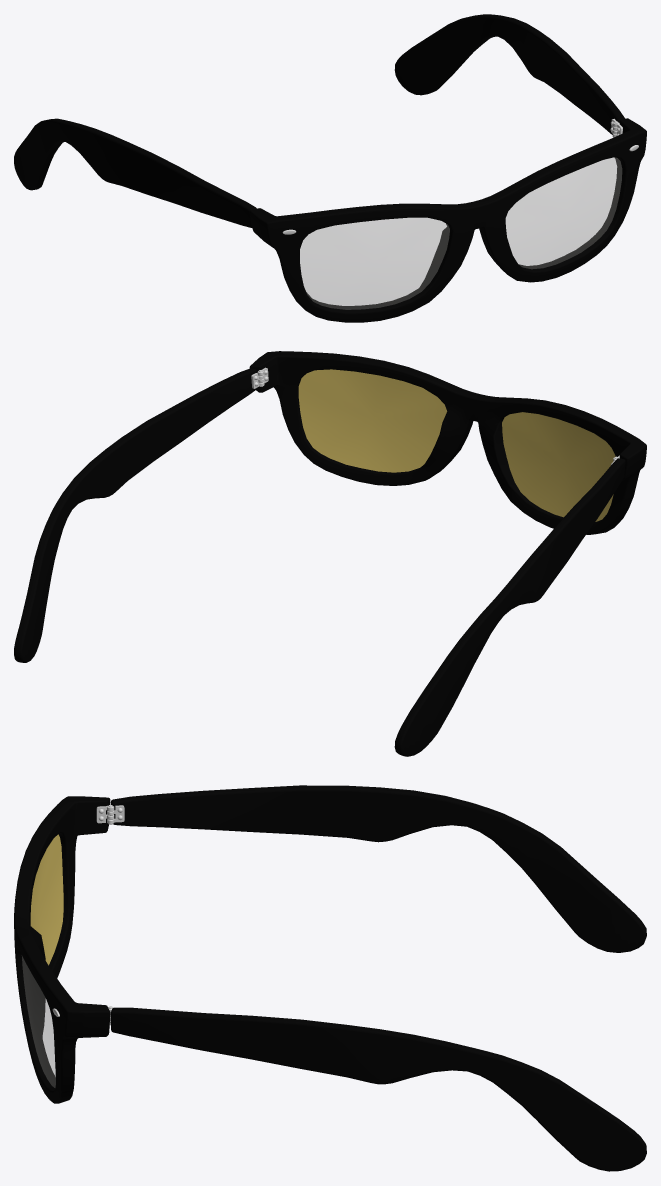
File: test_glasses.glb
3 renders of one model, top to bottom at view 1: azimuth 30°, elevation 25°; view 2: azimuth 150°, elevation 25°; view 3: azimuth 270°, elevation 25°, orthographic. The views are drawn at different scales.
Visible parts, largest first — view 1: glasses_low-poly_model_download.glb.001; view 2: glasses_low-poly_model_download.glb.001; view 3: glasses_low-poly_model_download.glb.001.
Boxes of the visible parts, x1,y1,x2,y2 form: glasses_low-poly_model_download.glb.001: [14, 14, 646, 322]; glasses_low-poly_model_download.glb.001: [14, 351, 646, 756]; glasses_low-poly_model_download.glb.001: [14, 785, 646, 1171].
Size of the model in its own units: 0.1649 by 0.0498 by 0.1765.
2 materials, 1 textured.
